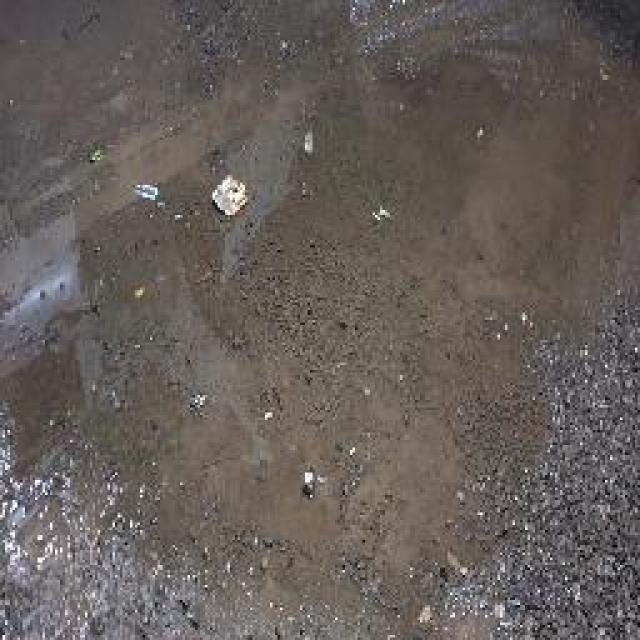waterlogging: (30, 64, 627, 640)
